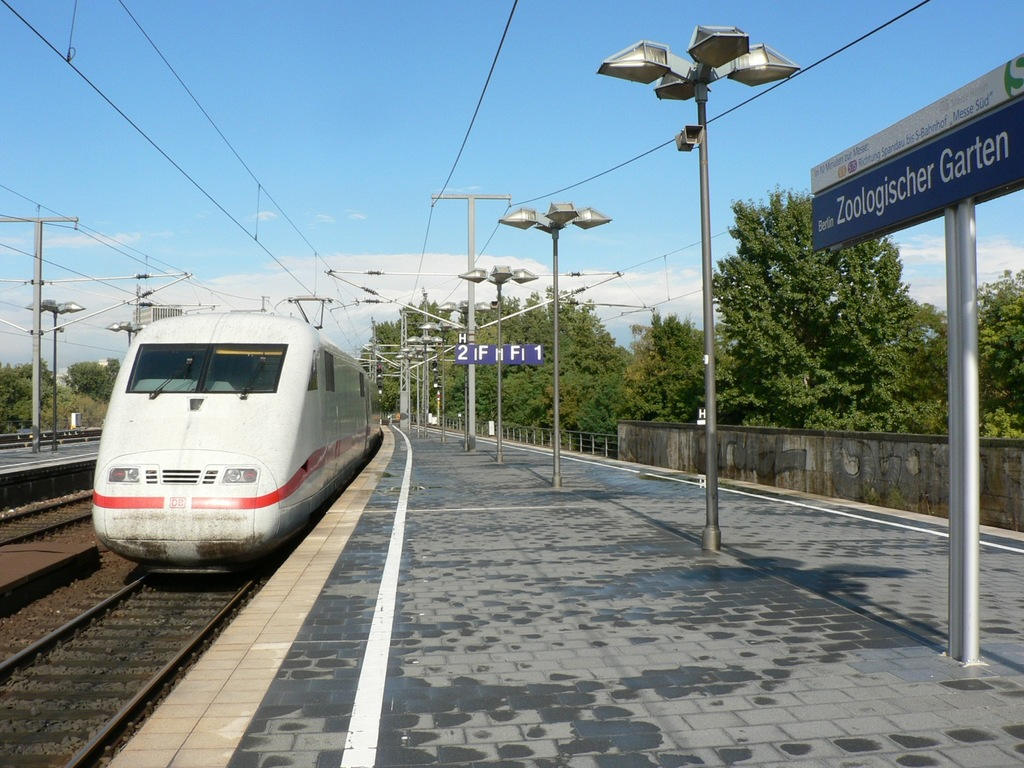train: (90, 296, 382, 583)
